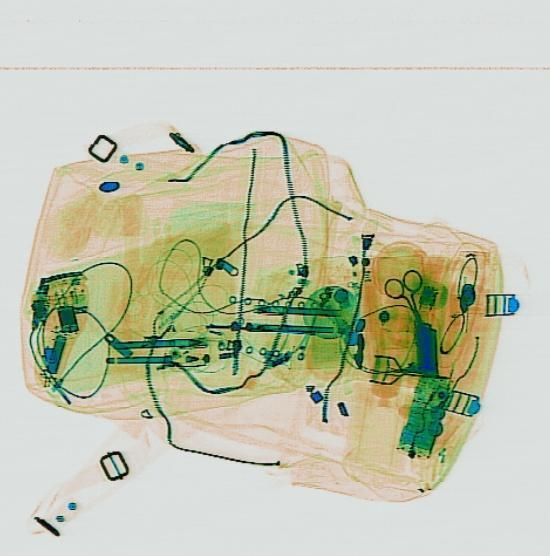Scissors: (380, 266, 438, 328)
